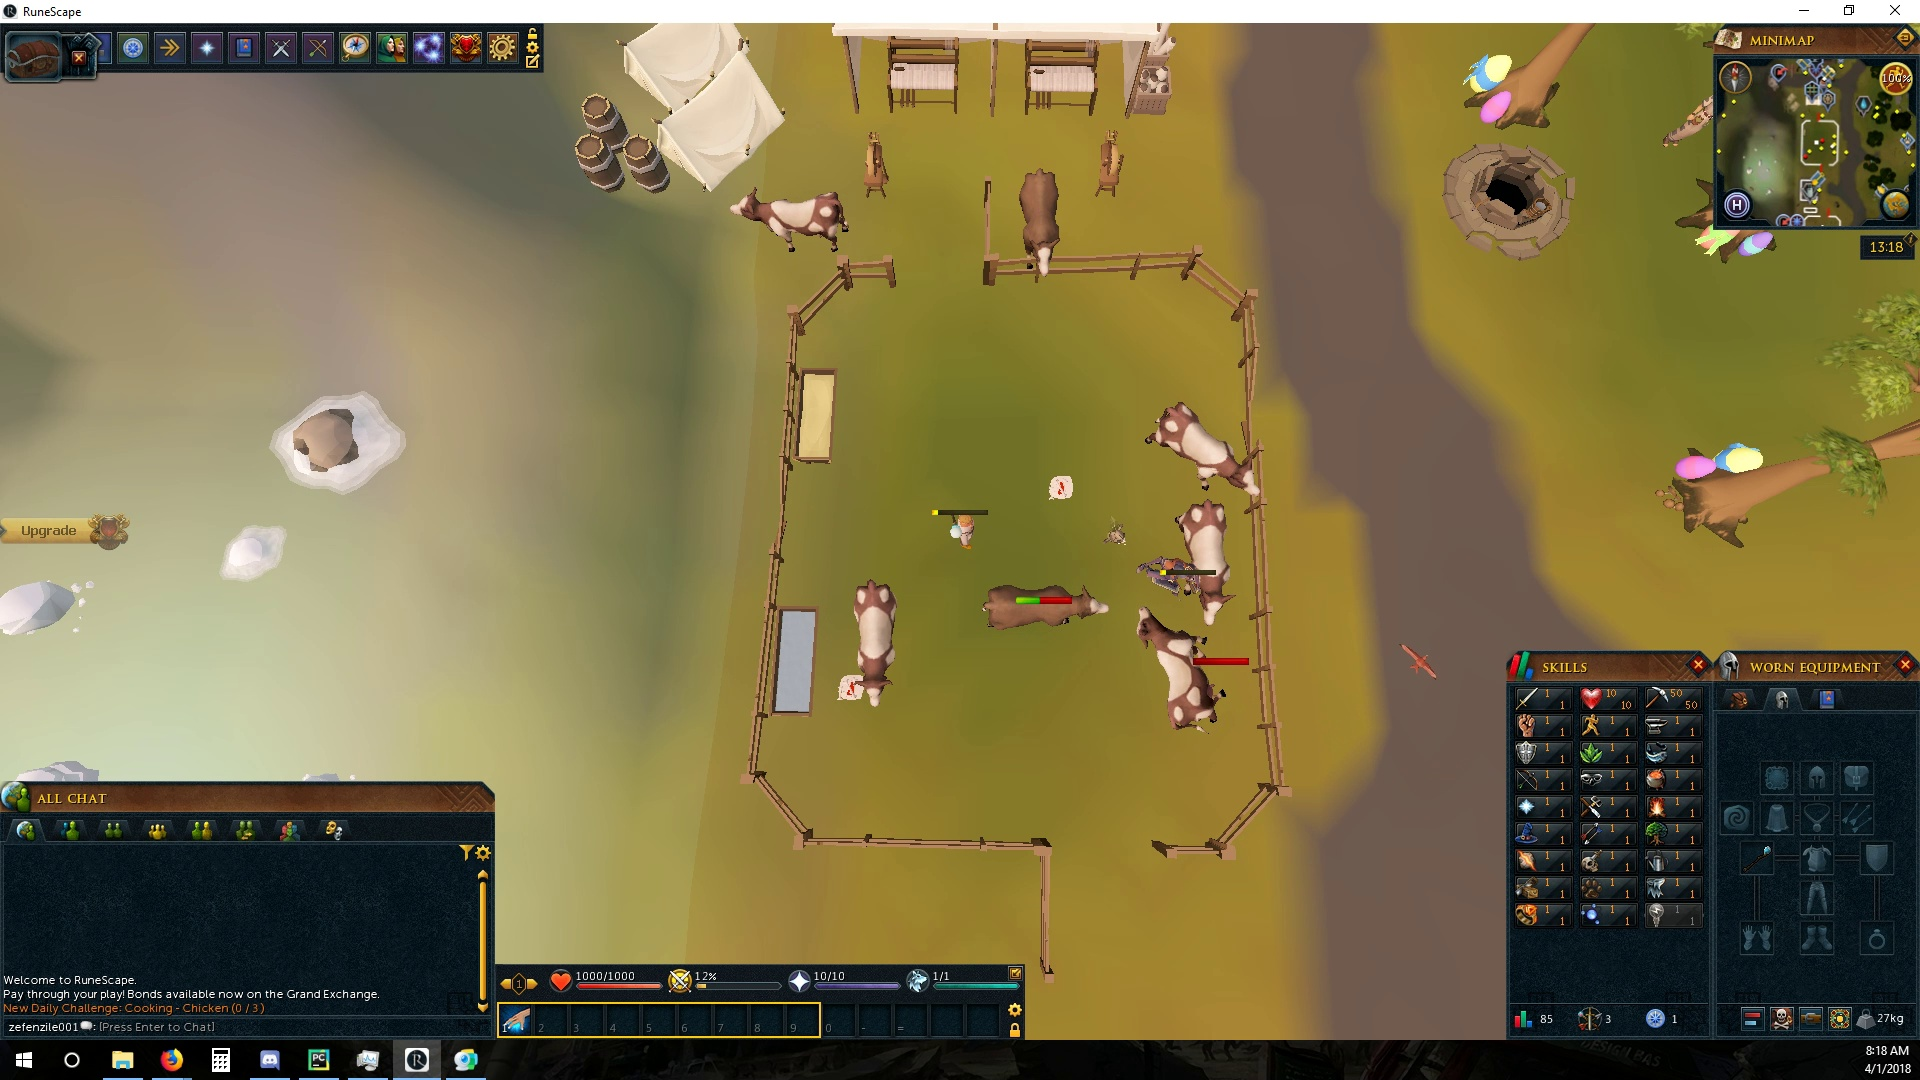cow: (1135, 607, 1226, 735), (1145, 402, 1266, 497), (729, 186, 855, 253), (977, 582, 1112, 637), (1175, 498, 1234, 624), (851, 578, 898, 709), (1015, 164, 1063, 280)
cow_drop: (837, 670, 865, 707), (1047, 469, 1075, 505)
